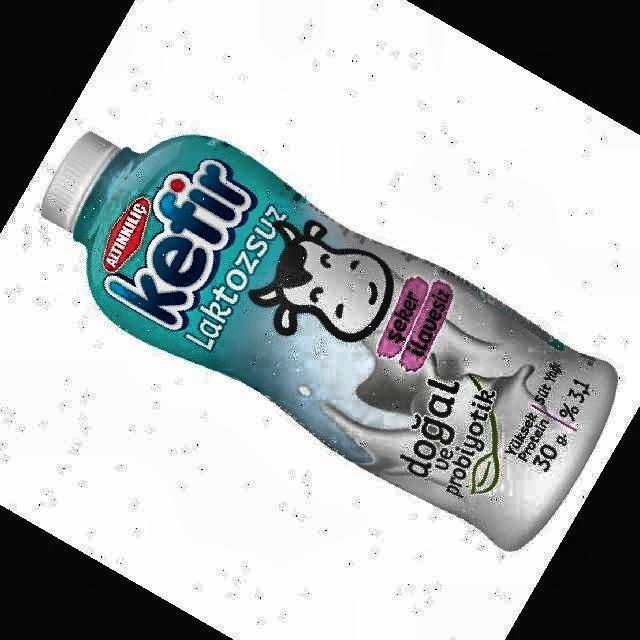plastic: (42, 132, 618, 549)
